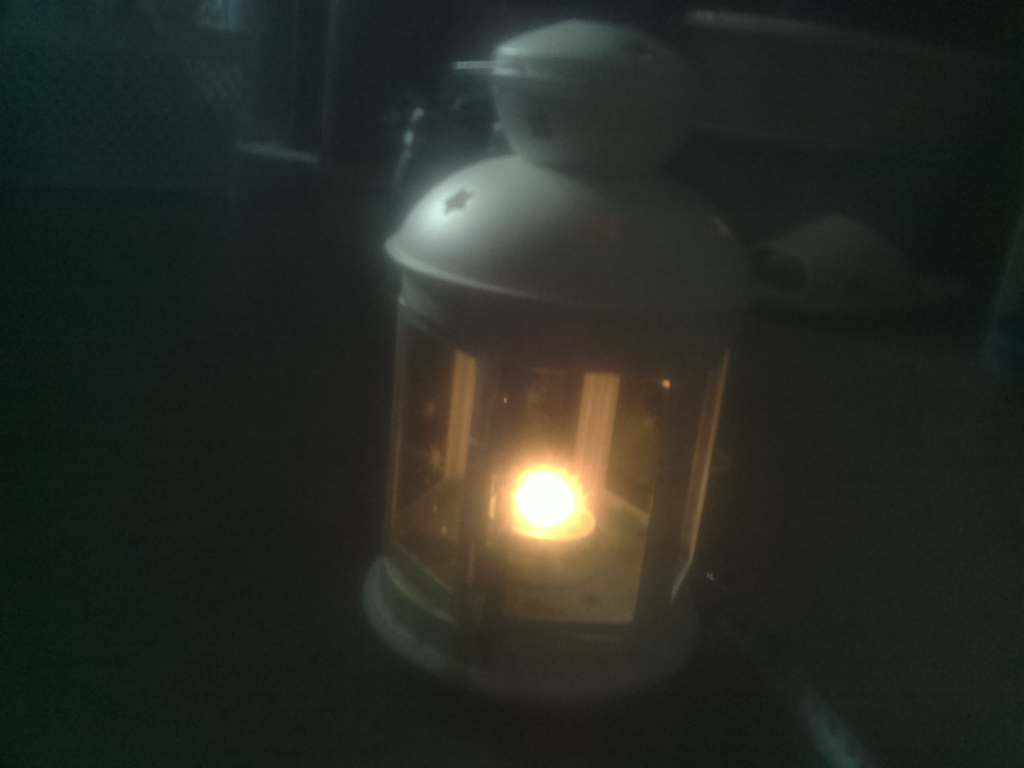fire: (471, 441, 613, 570)
